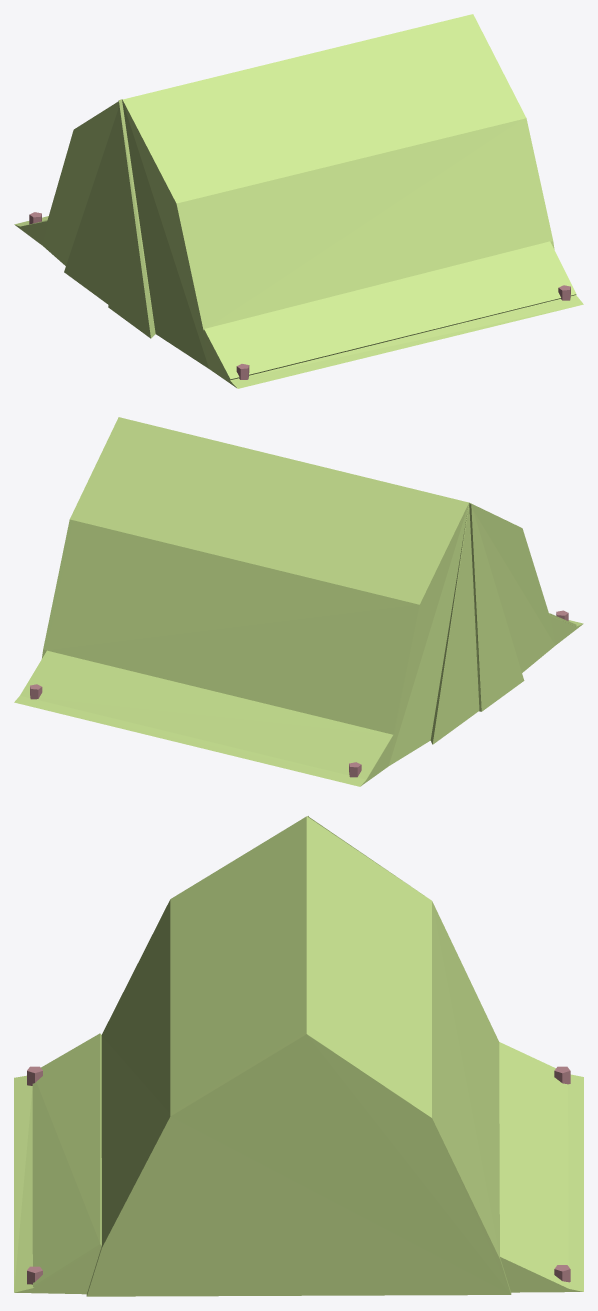
File: tent 1.fbx
The picture shows the model from 3 angles, top to bottom: view 1: azimuth 30°, elevation 25°; view 2: azimuth 150°, elevation 25°; view 3: azimuth 270°, elevation 25°; orthographic projection. The views are drawn at different scales.
Parts seen in each view (by area): view 1: pPrism1; view 2: pPrism1; view 3: pPrism1.
Boxes of the visible parts, x1=… form: pPrism1: x1=14, y1=14, x2=583, y2=388; pPrism1: x1=14, y1=417, x2=583, y2=786; pPrism1: x1=14, y1=816, x2=583, y2=1296.
Size of the model in its own units: 9.13 by 4.95 by 9.73.
